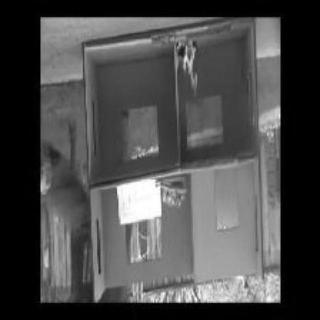Fire: (176, 42, 198, 98)
